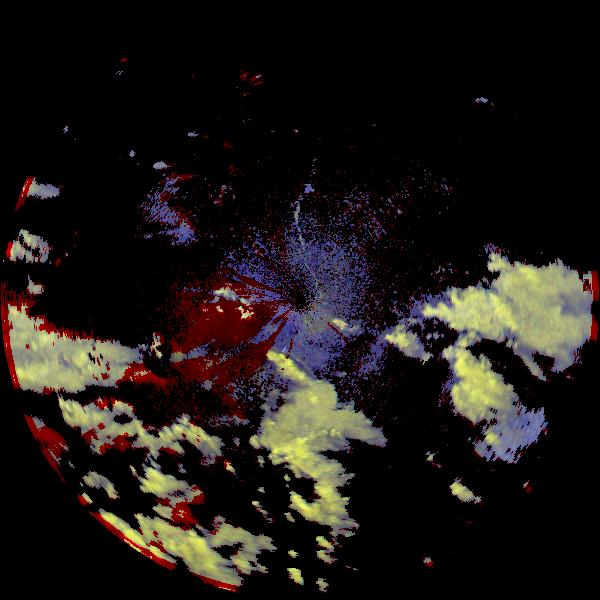roost: (149, 341, 188, 380)
